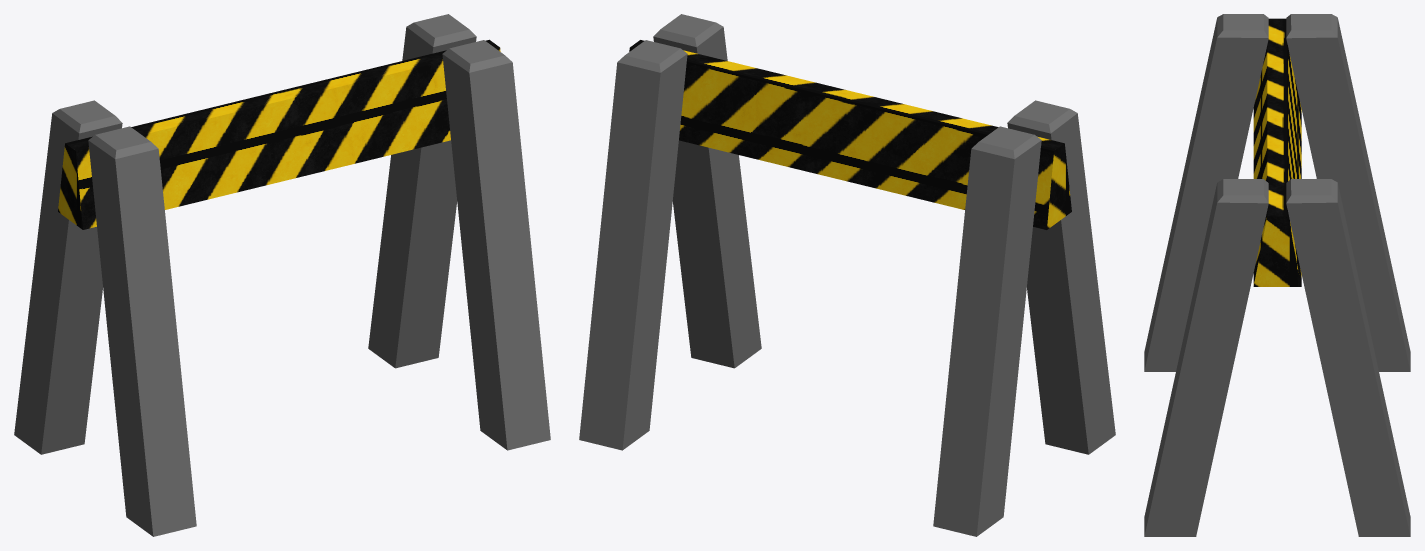
Rendered from RoadBarrierTall.fbx.
The picture shows the model from 3 angles, left to right: view 1: azimuth 30°, elevation 25°; view 2: azimuth 150°, elevation 25°; view 3: azimuth 270°, elevation 25°; orthographic projection. The views are drawn at different scales.
Parts seen in each view (by area): view 1: pCube14; view 2: pCube14; view 3: pCube14.
Part boxes in pixels (x1,y1,x2,y2): pCube14: (14, 14, 550, 536); pCube14: (579, 14, 1115, 536); pCube14: (1144, 14, 1410, 536).
Bounding box in the file's own units: 6.82 × 5.46 × 3.88.
